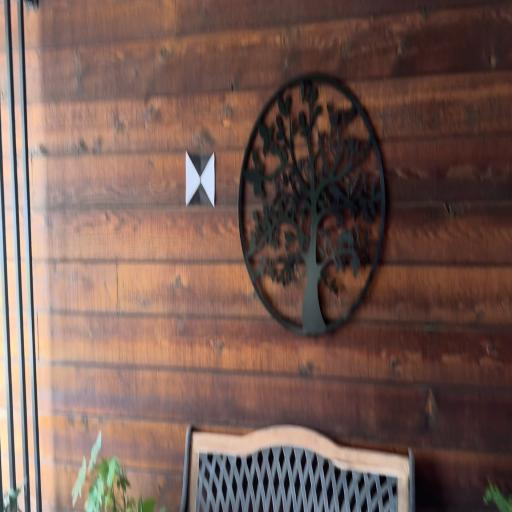target: (186, 151, 214, 206)
